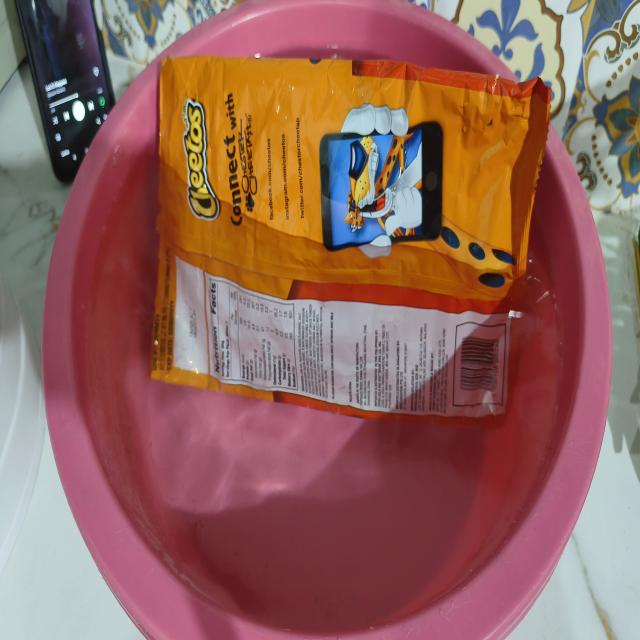Plastic Wrapper: (150, 57, 550, 416)
